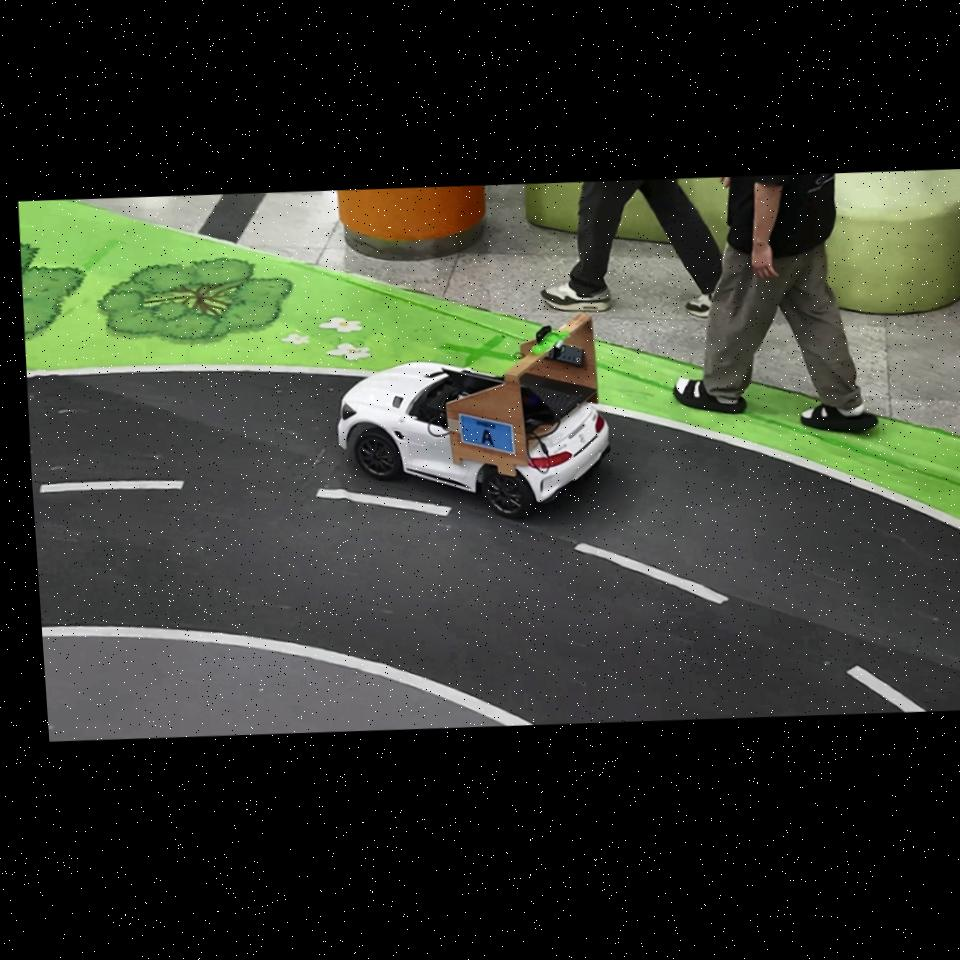broken_line: (574, 544, 729, 604), (316, 488, 451, 516), (847, 666, 926, 712), (40, 481, 184, 493)
